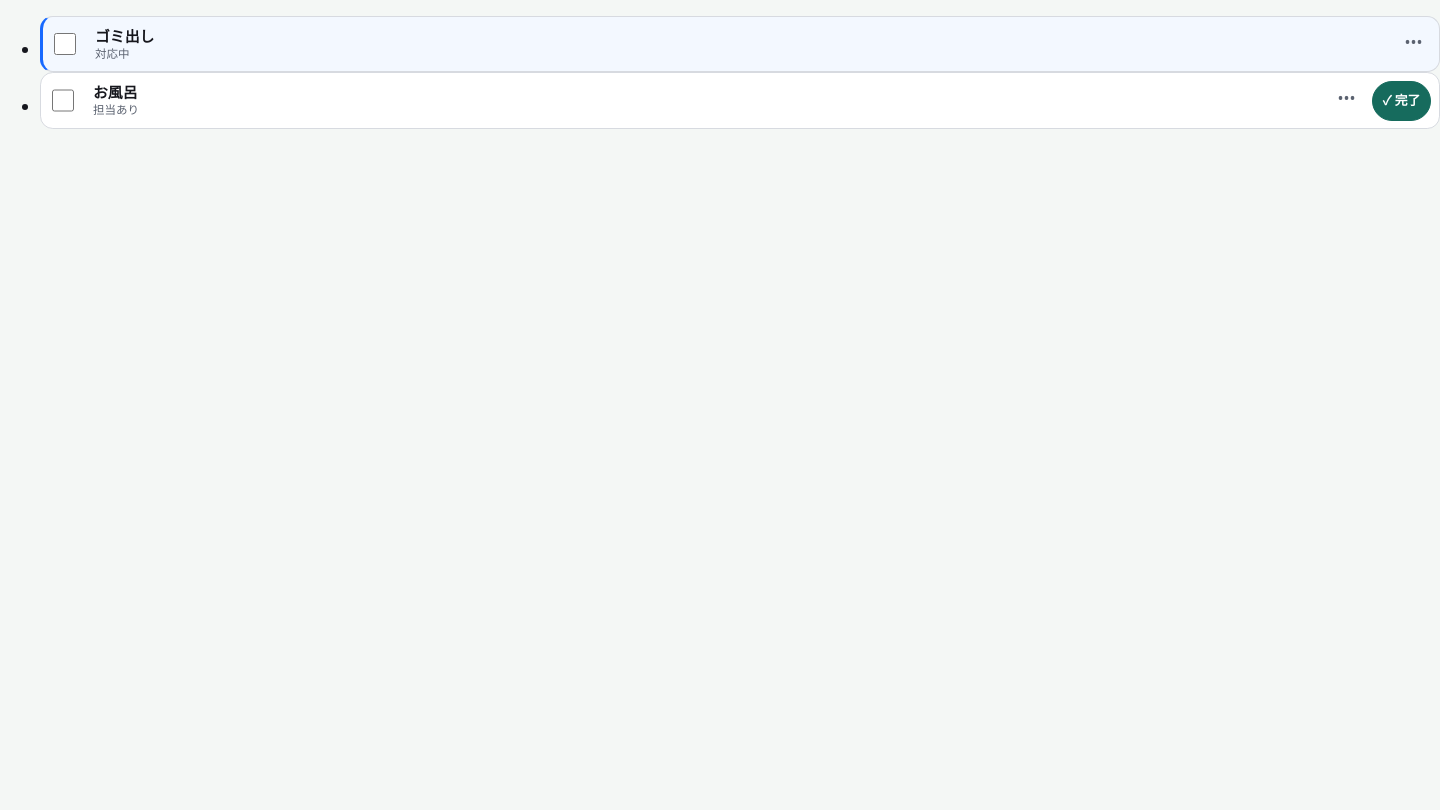
Test: ticking several tasks and recording them together › keeps a task another person is handling selected and says why it was not recorded
Click the checkbox named "ゴミ出しを選ぶ" at [65, 44], box 54,33 -> 76,55
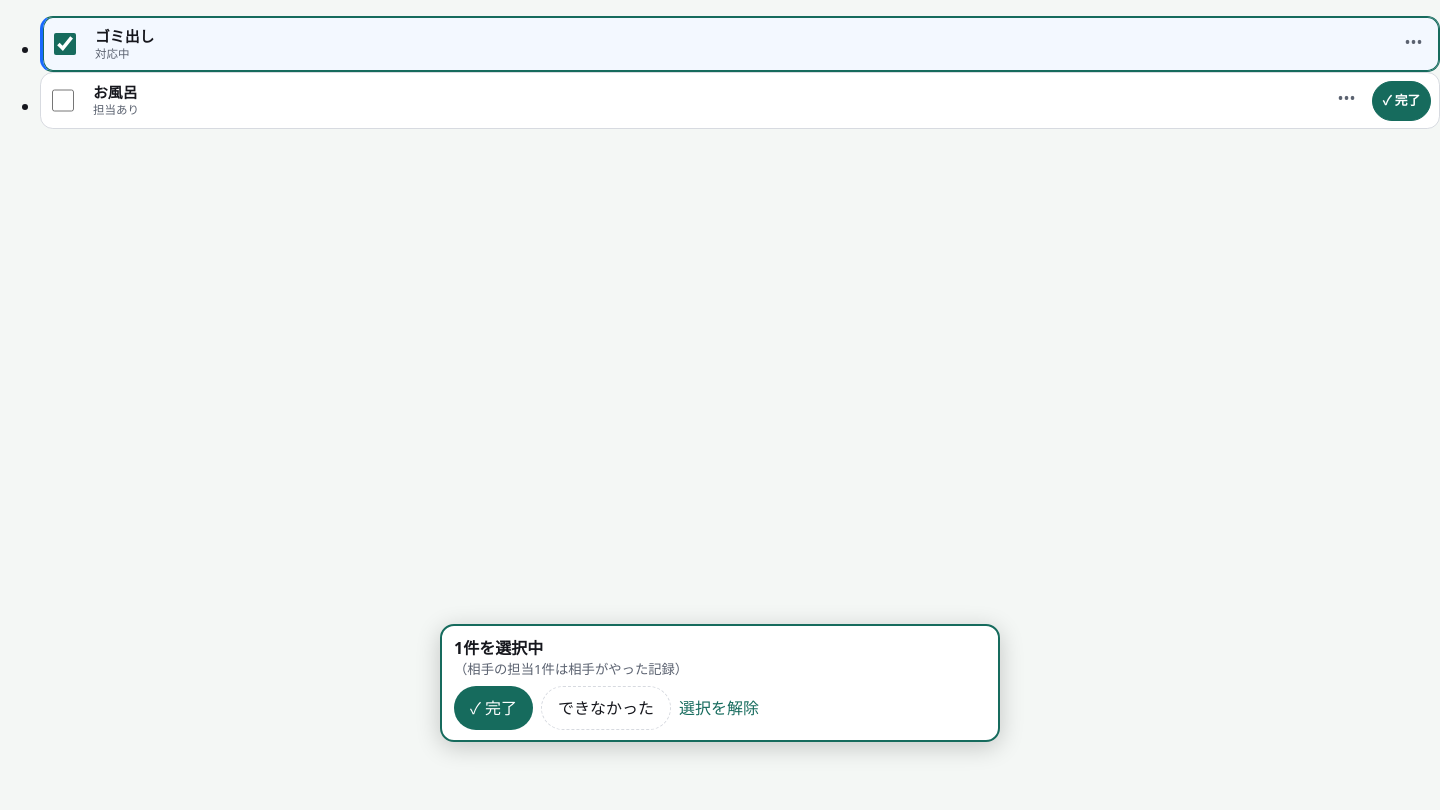
Click the checkbox named "お風呂を選ぶ" at [63, 101], box 52,89 -> 74,112
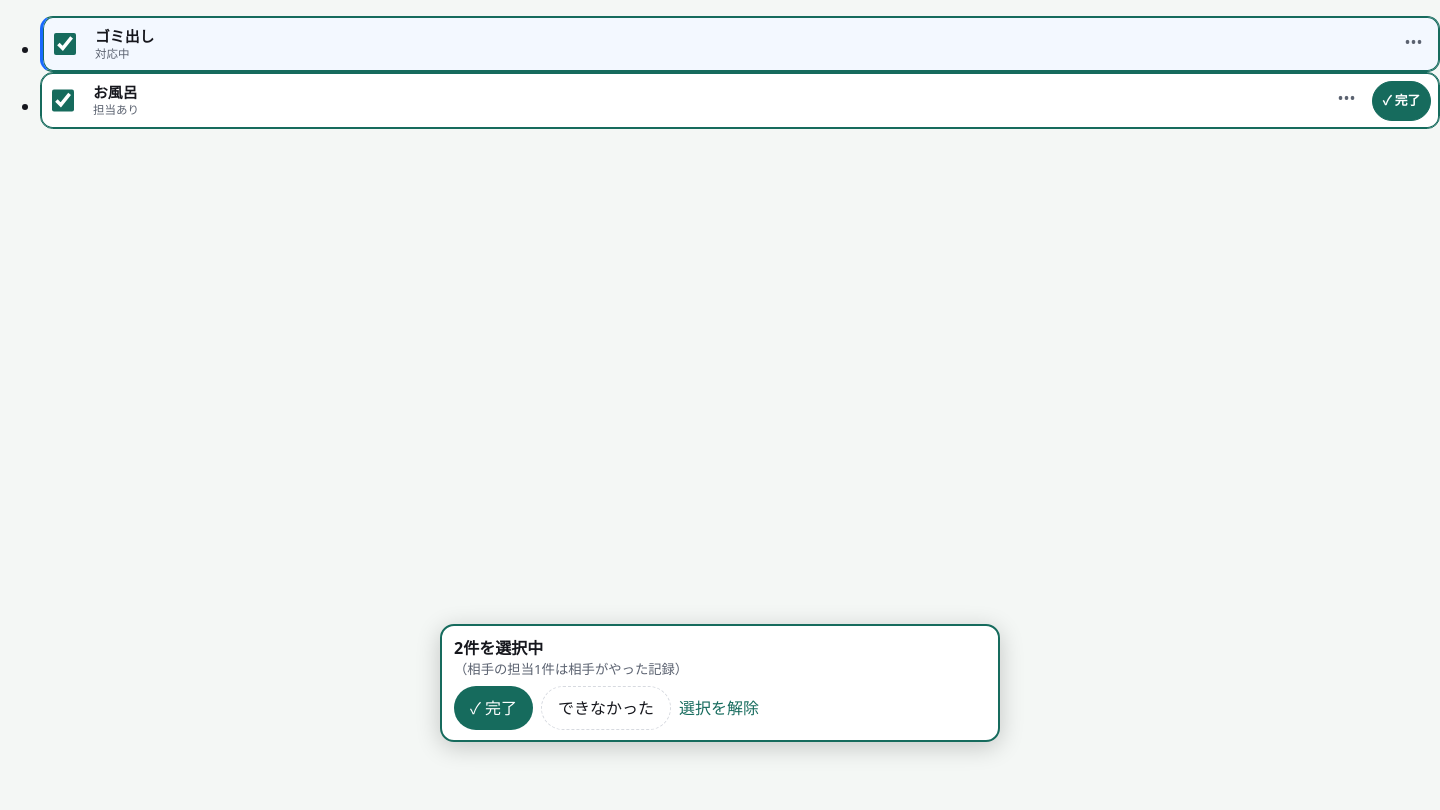
Click the button "✓ 完了" below "の担当" at [494, 708], box 454,686 -> 533,730
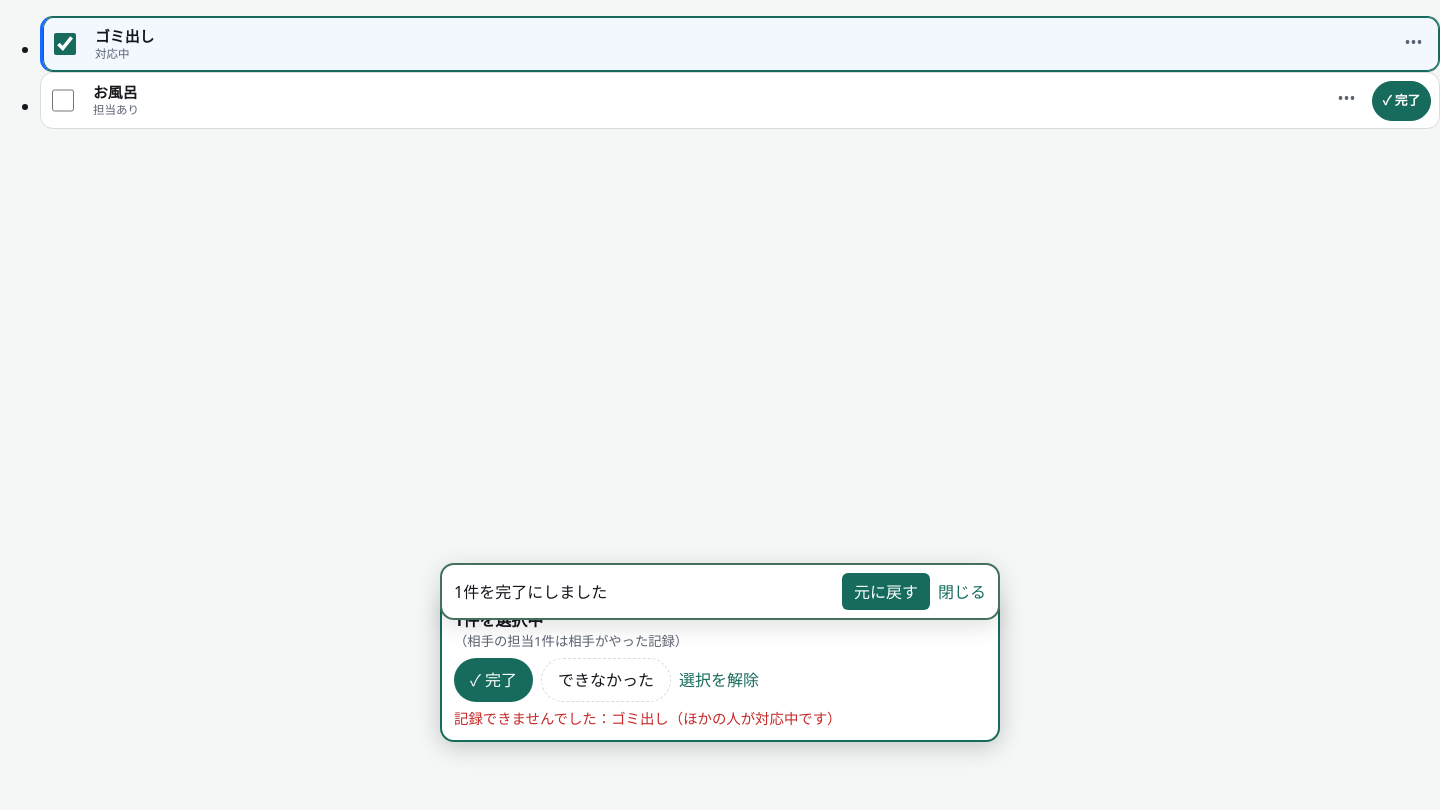
expect the checkbox named "ゴミ出しを選ぶ" is checked: met, box 54,33 -> 76,55
expect the message "記録できませんでした：ゴミ出し（ほかの人が対応中です）" is shown: met, box 454,709 -> 842,728
